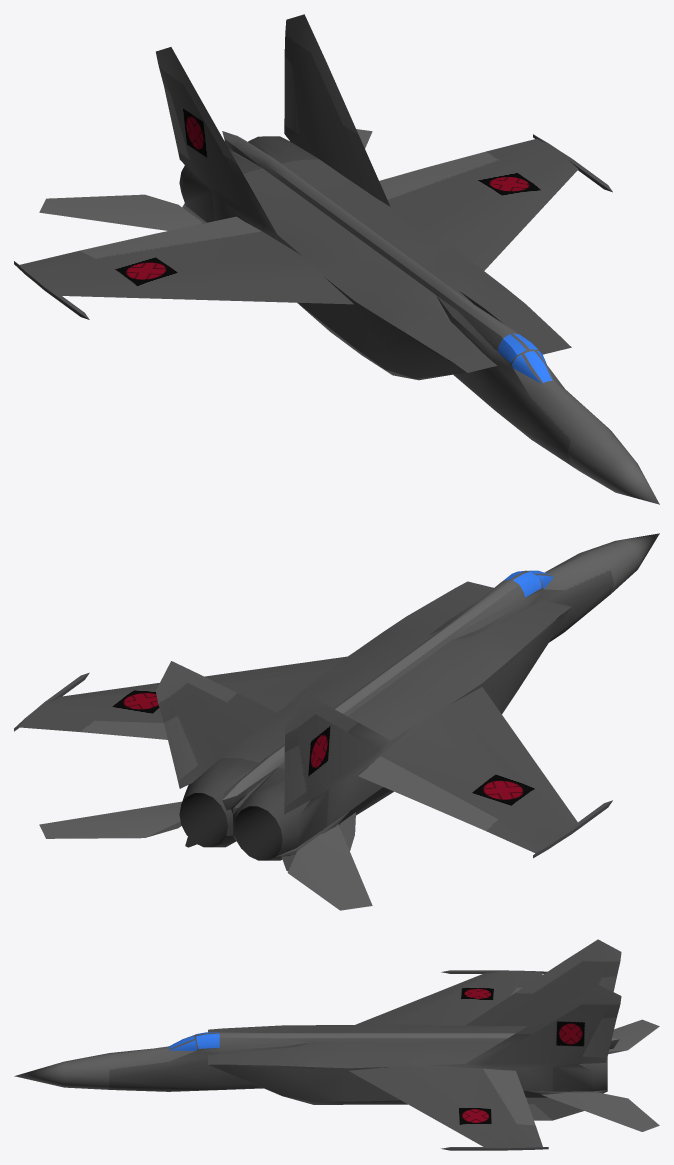
File: MiG-25.obj
The picture shows the model from 3 angles, top to bottom: view 1: azimuth 30°, elevation 25°; view 2: azimuth 150°, elevation 25°; view 3: azimuth 270°, elevation 25°; orthographic projection. The views are drawn at different scales.
Parts seen in each view (by area): view 1: Body, Elevator; view 2: Body, Elevator; view 3: Body, Elevator.
Boxes of the visible parts, x1,y1,x2,y2 form: Body: (14, 14, 659, 504); Elevator: (39, 129, 372, 230); Body: (14, 533, 659, 871); Elevator: (39, 801, 372, 910); Body: (14, 939, 621, 1150); Elevator: (541, 1019, 659, 1131).
Bounding box in the file's own units: 13.95 × 5.07 × 21.38.
Materials: 1 (1 with a texture image).
